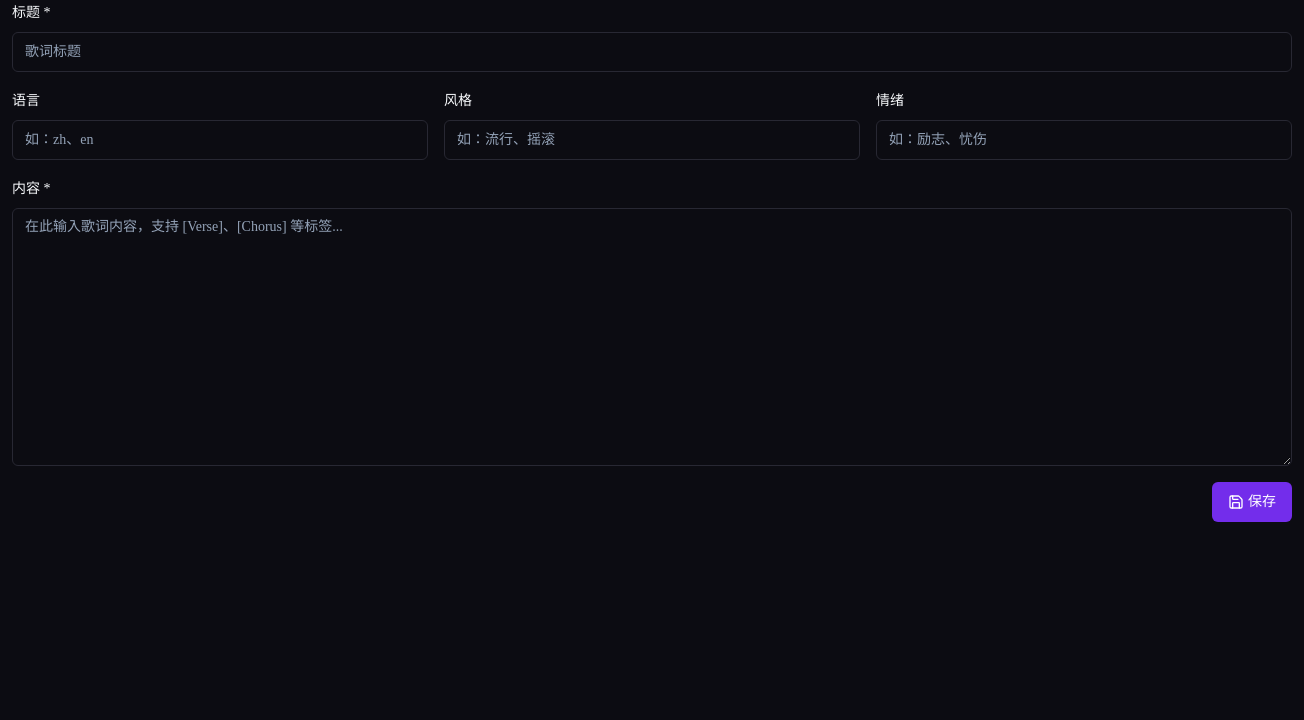
Scenario: LyricCreateForm › shows server error on failed submission
Type "测试歌词" into the field labelled "标题 *".
click(652, 52); type("测试歌词")  # box 12,32 -> 1292,72
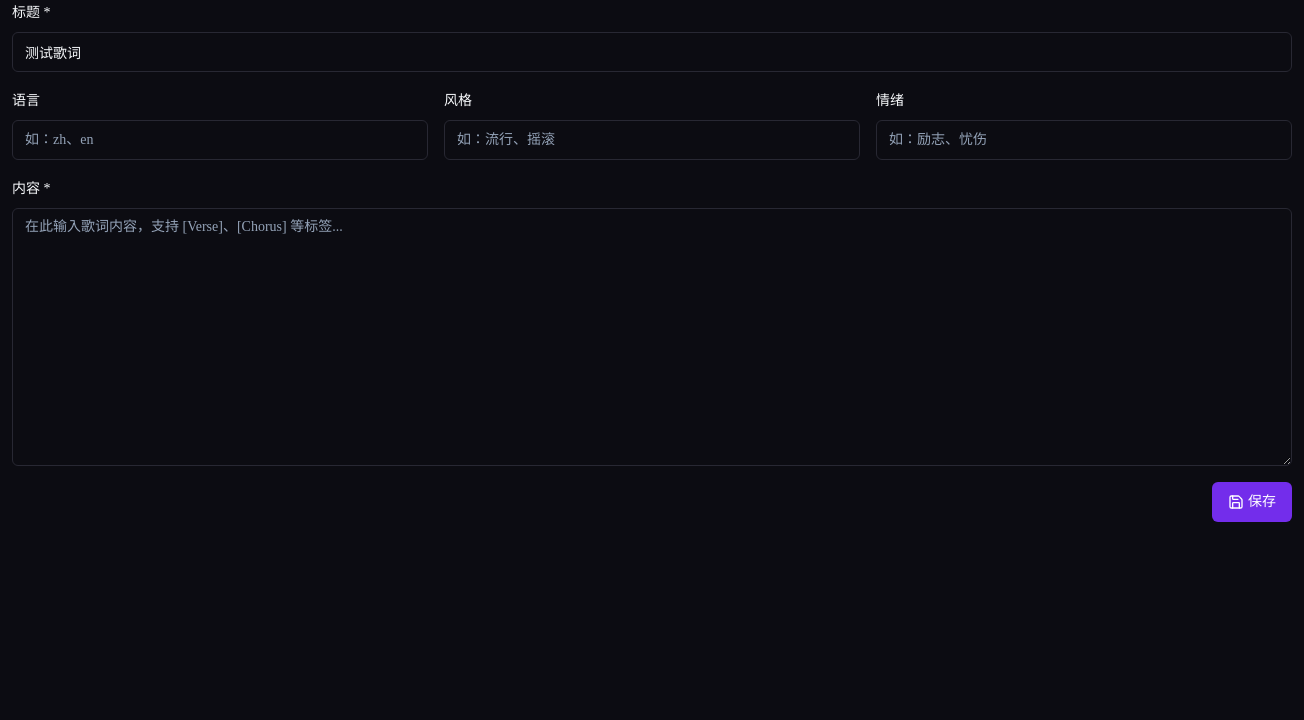
Type "这是歌词内容" into the text box labelled "内容 *".
click(652, 337); type("这是歌词内容")  # box 12,208 -> 1292,466
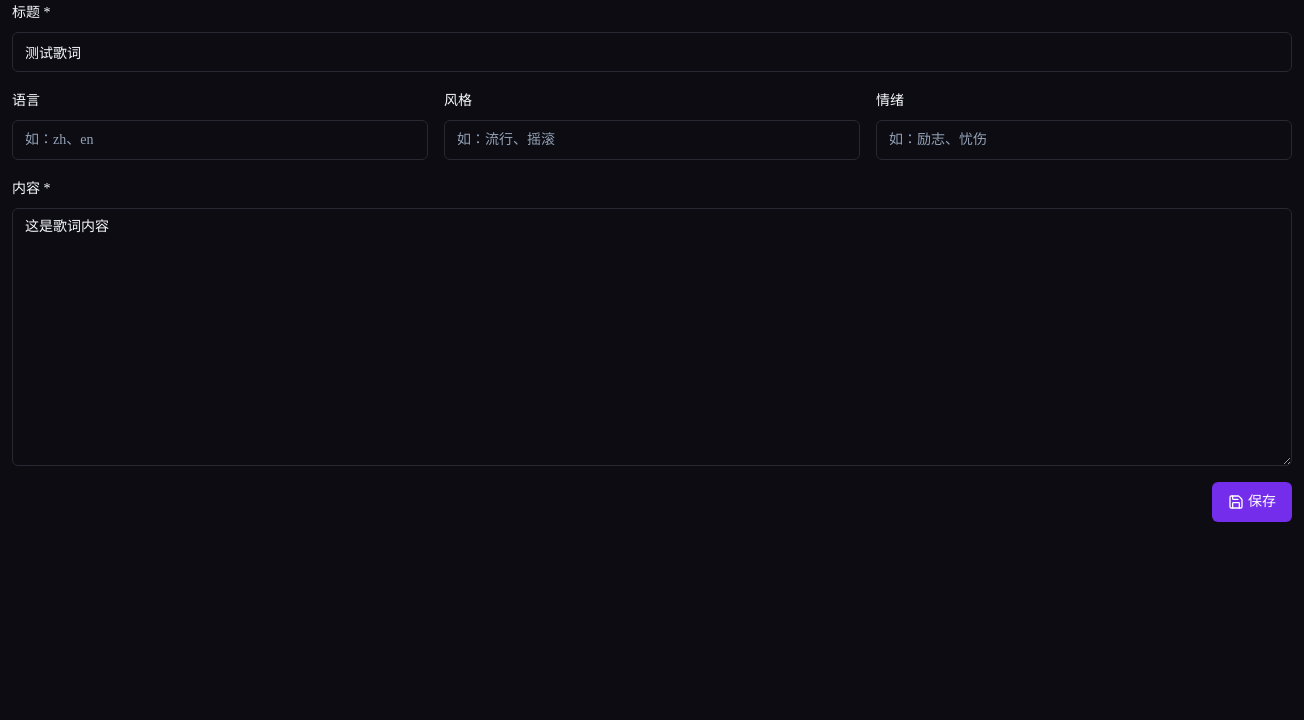
Click the button "保存".
click(1252, 502)  # box 1212,482 -> 1292,522
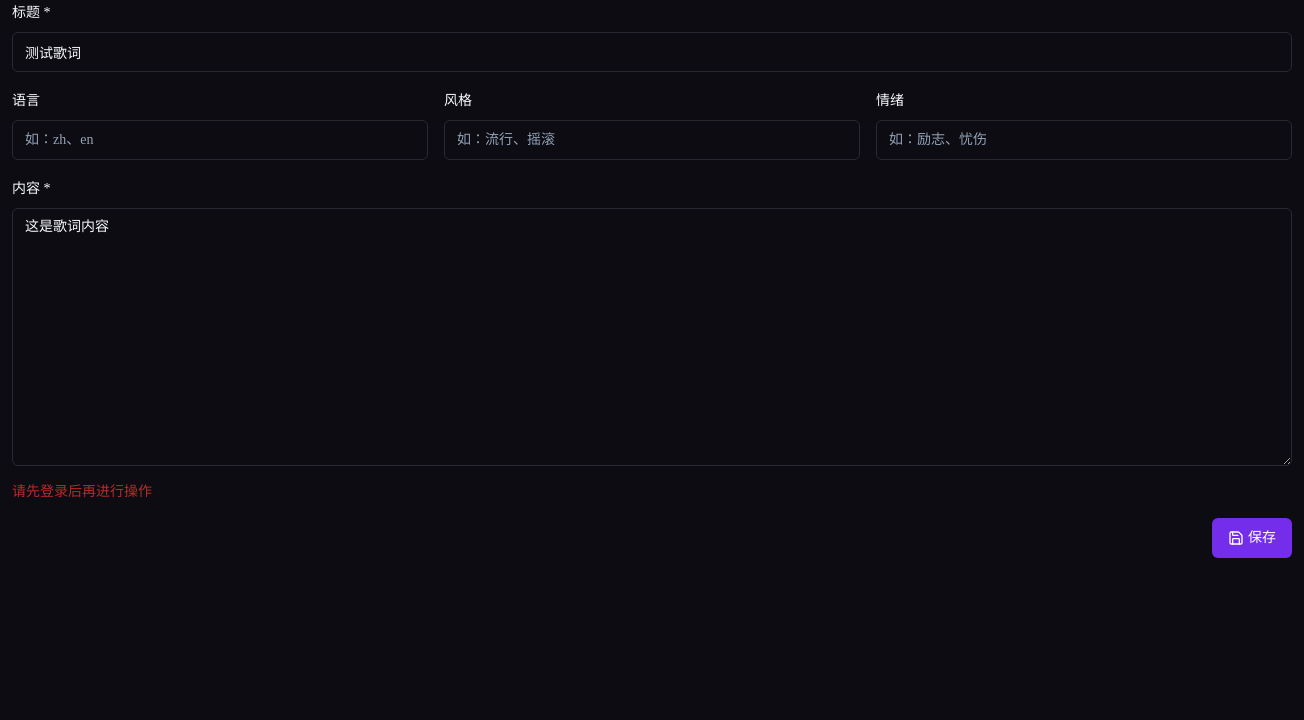
expect the text "请先登录后再进行操作" is shown: met, box 12,484 -> 152,499
